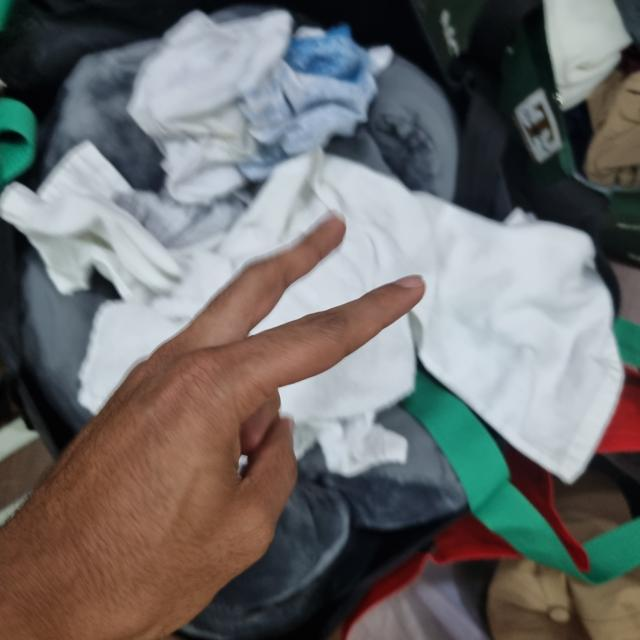Scissors: (0, 214, 425, 639)
